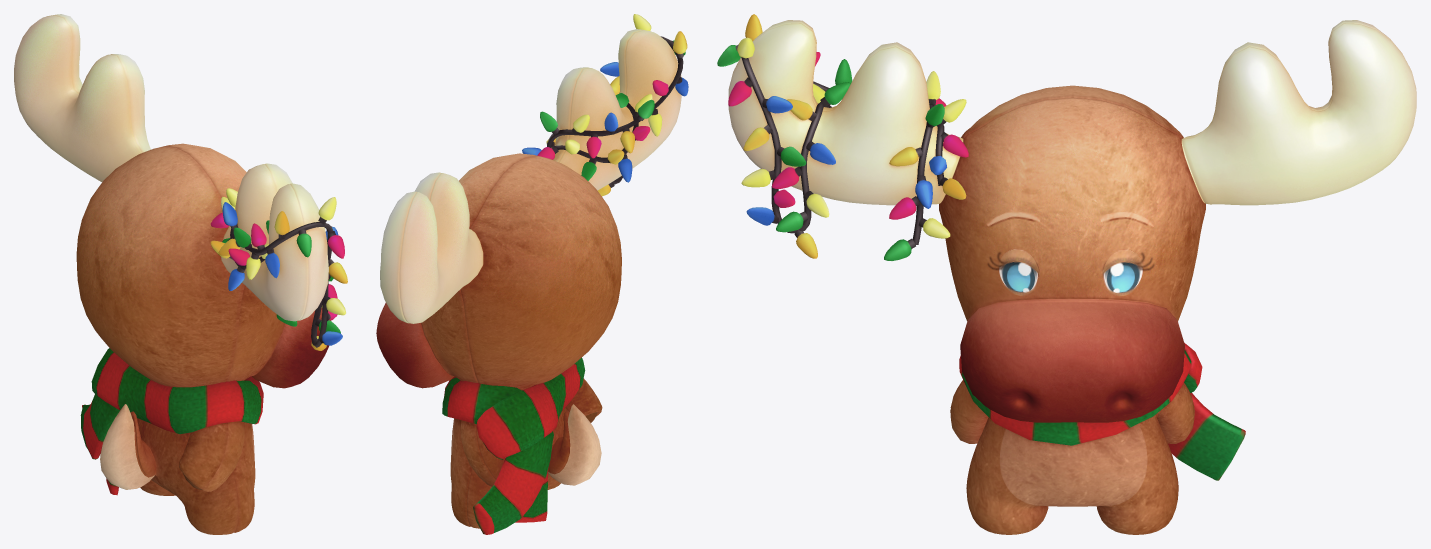
File: deer.fbx
3 renders of one model, left to right at view 1: azimuth 30°, elevation 25°; view 2: azimuth 150°, elevation 25°; view 3: azimuth 270°, elevation 25°, orthographic. The views are drawn at different scales.
Visible parts, largest first — view 1: deer_low_geo7; view 2: deer_low_geo7; view 3: deer_low_geo7.
Boxes of the visible parts, x1,y1,x2,y2 form: deer_low_geo7: (14, 14, 347, 534); deer_low_geo7: (376, 14, 688, 534); deer_low_geo7: (717, 14, 1416, 534).
Bounding box in the file's own units: 6.33 × 11.49 × 14.7.
1 material, 1 textured.
